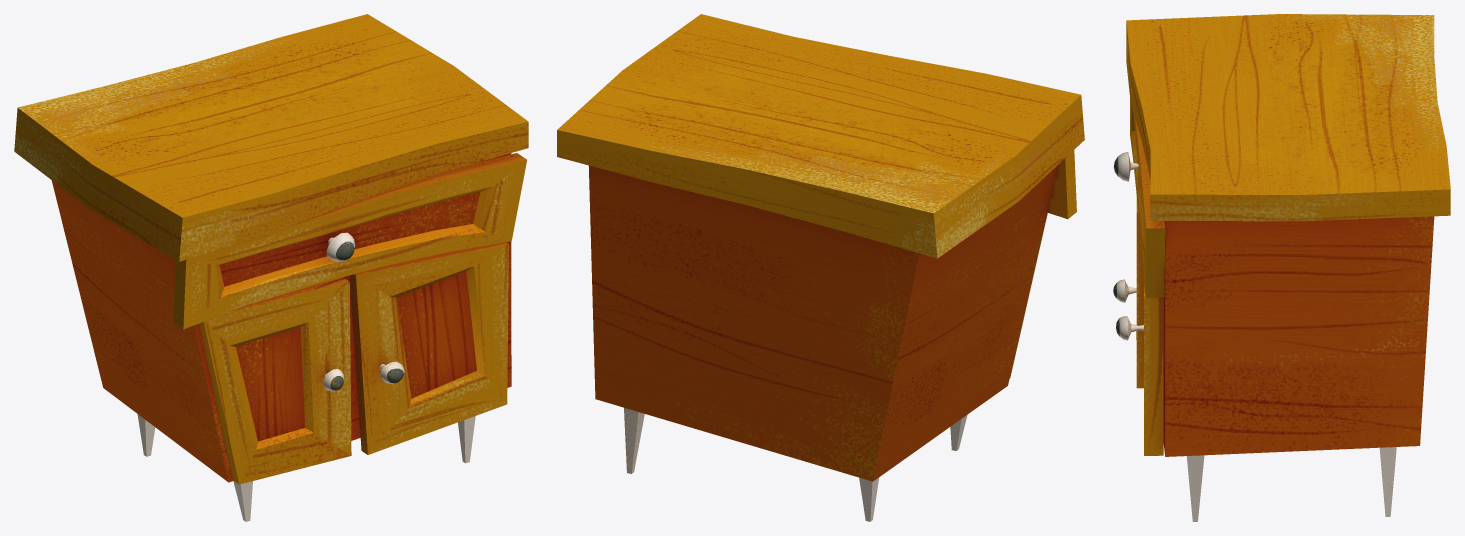
Rendered from pref_stand_3_blend.fbx.
3 renders of one model, left to right at view 1: azimuth 30°, elevation 25°; view 2: azimuth 150°, elevation 25°; view 3: azimuth 270°, elevation 25°, orthographic. The views are drawn at different scales.
Parts seen in each view (by area): view 1: stand_3_blend; view 2: stand_3_blend; view 3: stand_3_blend.
Boxes of the visible parts, x1=… form: stand_3_blend: x1=14, y1=14, x2=528, y2=521; stand_3_blend: x1=557, y1=14, x2=1084, y2=521; stand_3_blend: x1=1113, y1=14, x2=1450, y2=521.
Bounding box in the file's own units: 1.06 × 0.9393 × 0.8313.
1 material, 1 textured.
